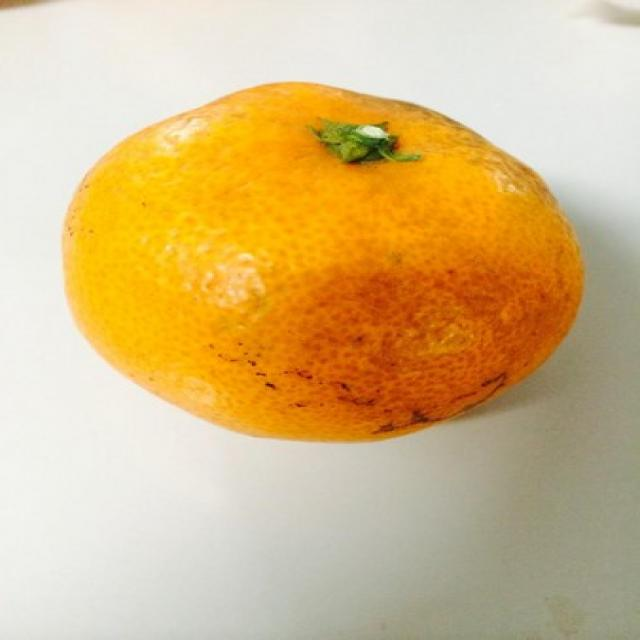Orange: (49, 75, 588, 448)
